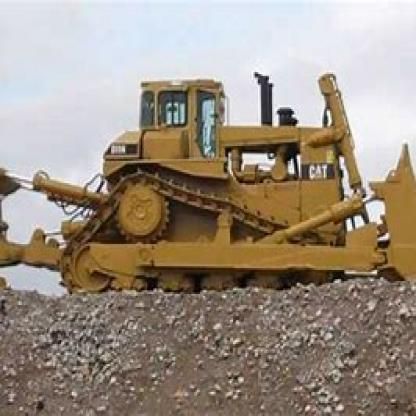bull_dozer/loader/grader: (1, 48, 414, 331)
